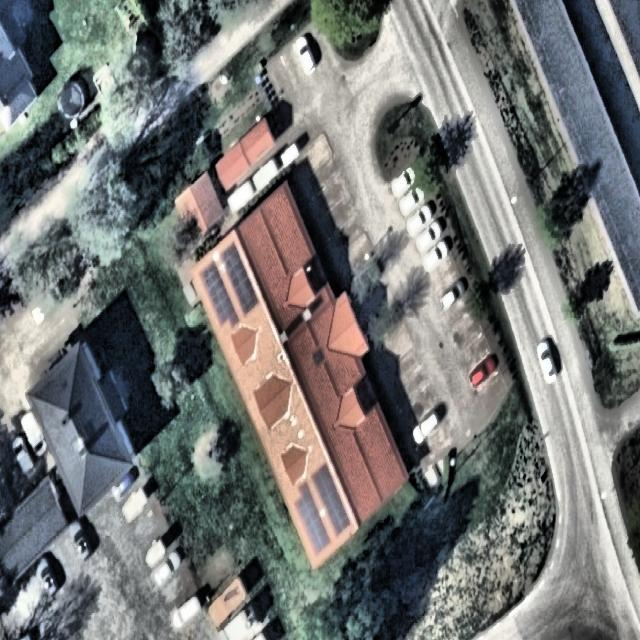roof_pv: (313, 462, 352, 538), (294, 484, 332, 558), (221, 241, 257, 315), (201, 270, 235, 323)
